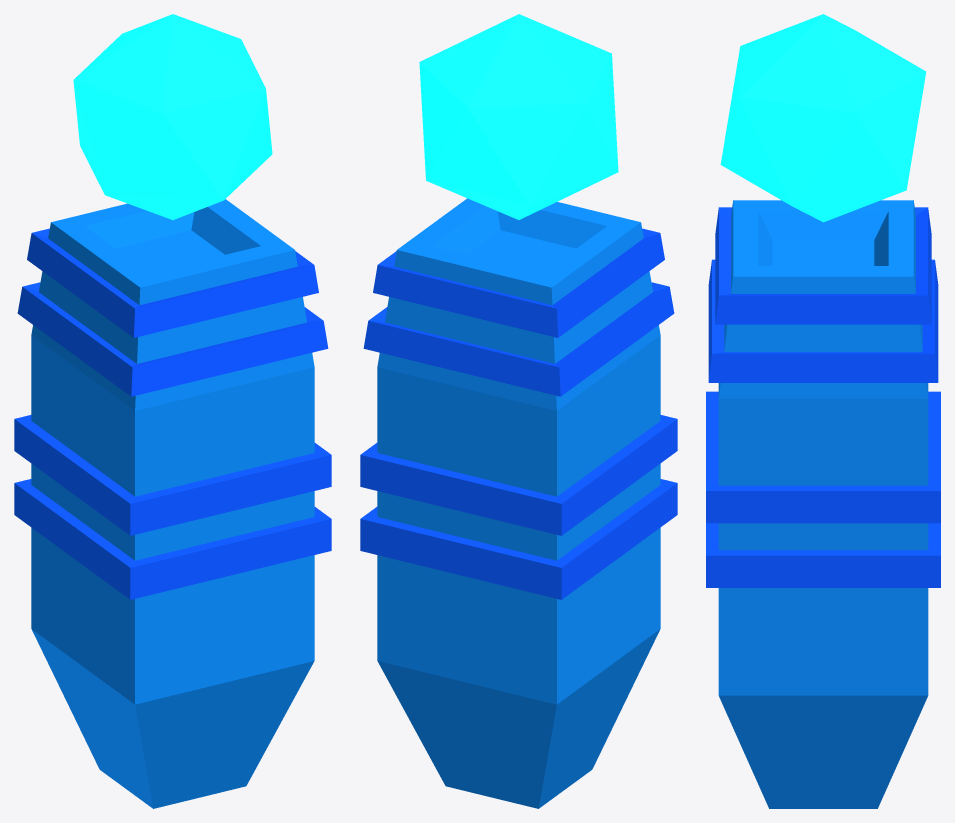
File: Corner_pillar.fbx
The picture shows the model from 3 angles, left to right: view 1: azimuth 30°, elevation 25°; view 2: azimuth 150°, elevation 25°; view 3: azimuth 270°, elevation 25°; orthographic projection.
Parts seen in each view (by area): view 1: Corner_pillar; view 2: Corner_pillar; view 3: Corner_pillar.
Boxes of the visible parts, bbox=[...] form: Corner_pillar: bbox=[14, 14, 331, 808]; Corner_pillar: bbox=[360, 14, 677, 808]; Corner_pillar: bbox=[706, 14, 940, 808].
Bounding box in the file's own units: 0.9834 × 3.57 × 0.9834.
